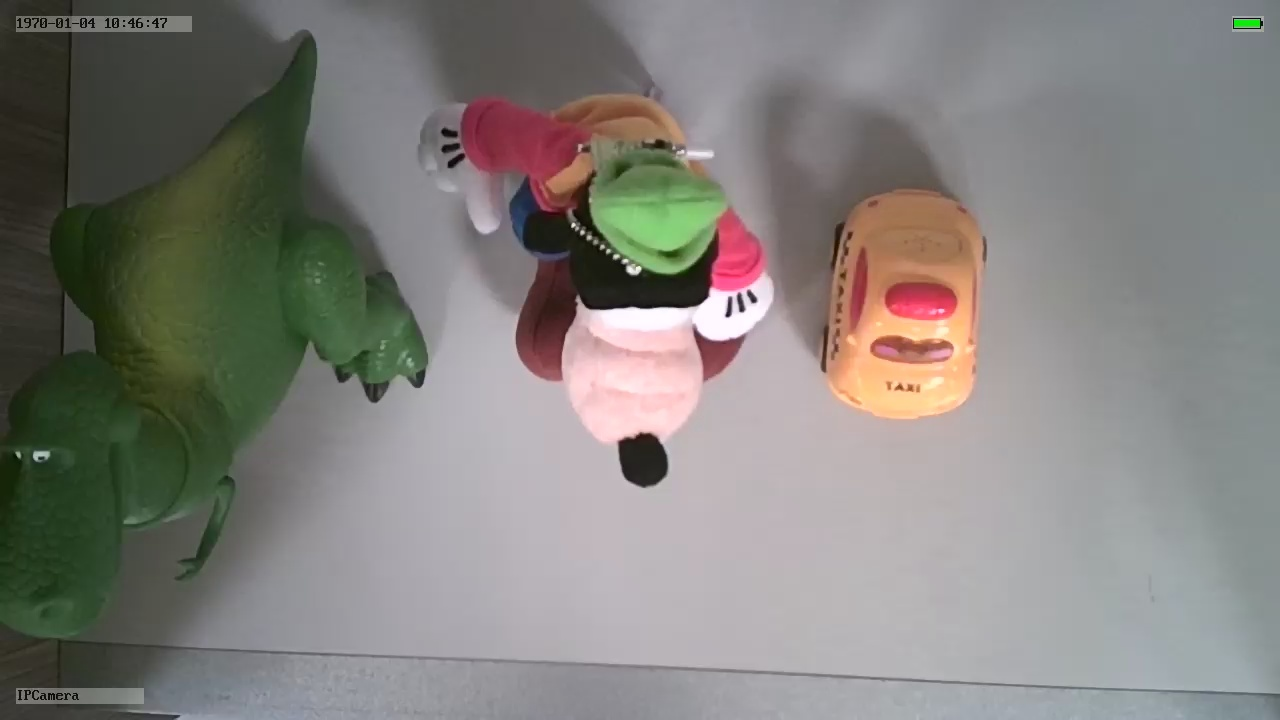car: (816, 181, 991, 426)
goofy: (415, 89, 779, 490)
rex: (1, 131, 428, 644)
